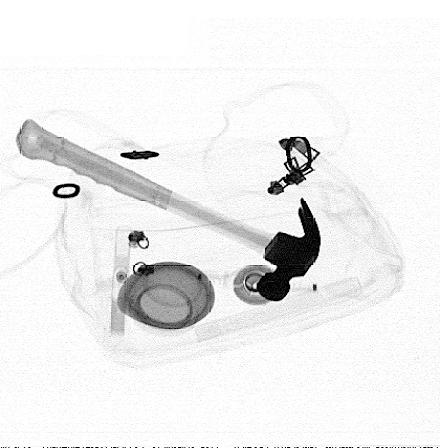Hammer: (16, 117, 322, 301)
